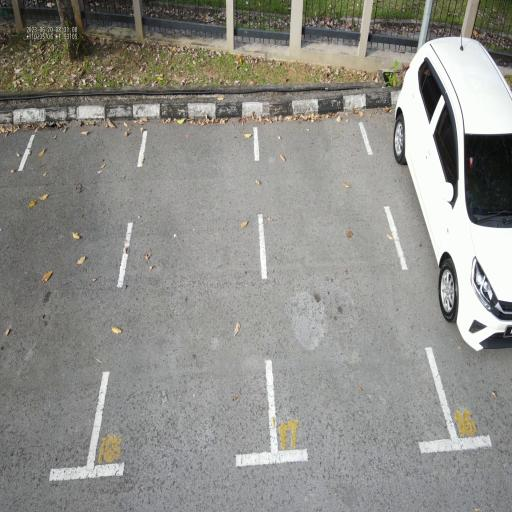Empty: (251, 112, 465, 466), (80, 116, 280, 488)
